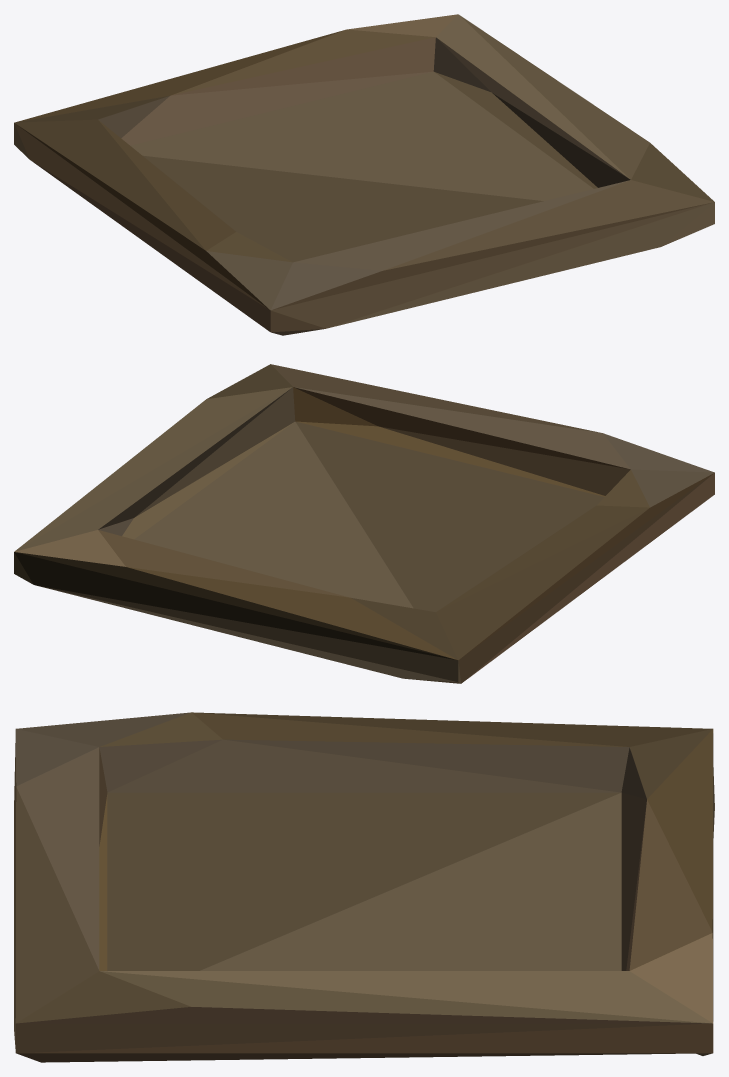
The model's file is CrateA_Top.fbx.
3 views of the same model, one above another, from view 1: azimuth 30°, elevation 25°; view 2: azimuth 150°, elevation 25°; view 3: azimuth 270°, elevation 25° (orthographic). The views are drawn at different scales.
Parts seen in each view (by area): view 1: CrateA_Top; view 2: CrateA_Top; view 3: CrateA_Top.
Boxes of the visible parts, x1,y1,x2,y2 form: CrateA_Top: (14, 14, 714, 335); CrateA_Top: (14, 364, 714, 683); CrateA_Top: (14, 712, 714, 1062).
Bounding box in the file's own units: 99.48 × 9.52 × 100.
